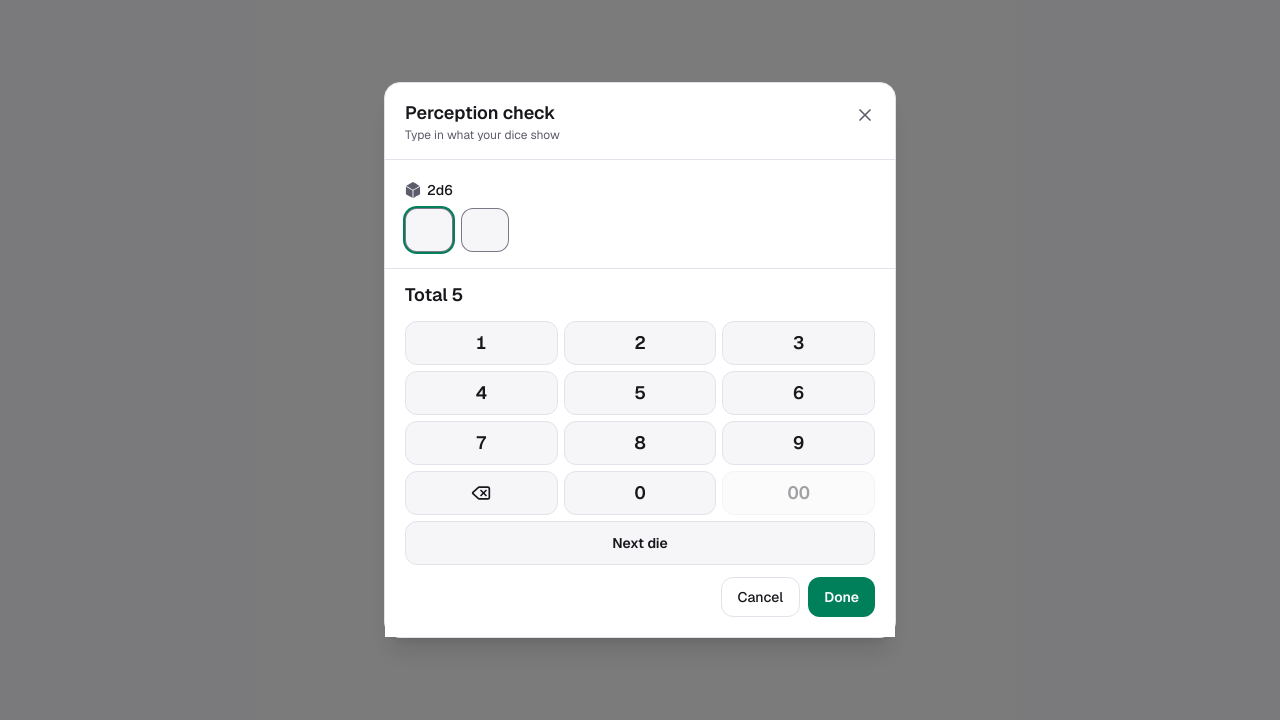
components/dice-entry/dice-entry-dialog › typing › starts a box holding a whole face again with the next digit
Click the button "4" at (481, 393), box [405, 371, 558, 415]
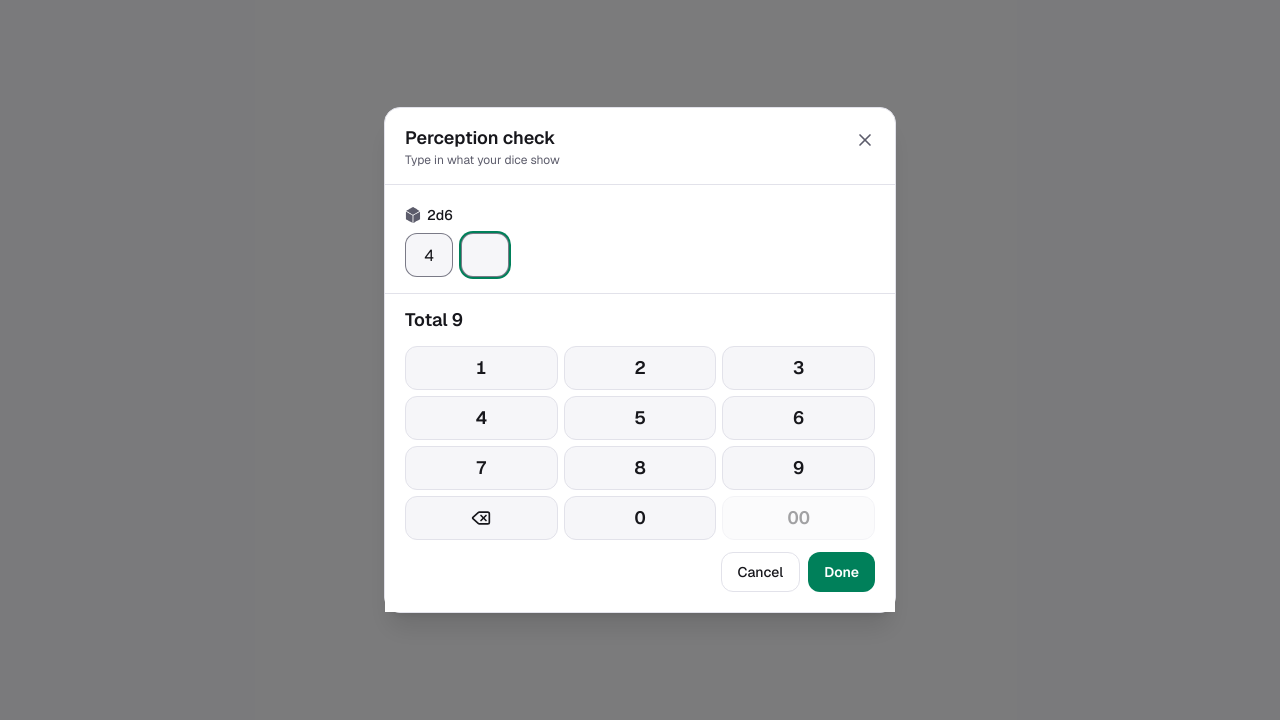
Click the field named "d6 1 of 2" at (429, 255), box [405, 233, 453, 277]
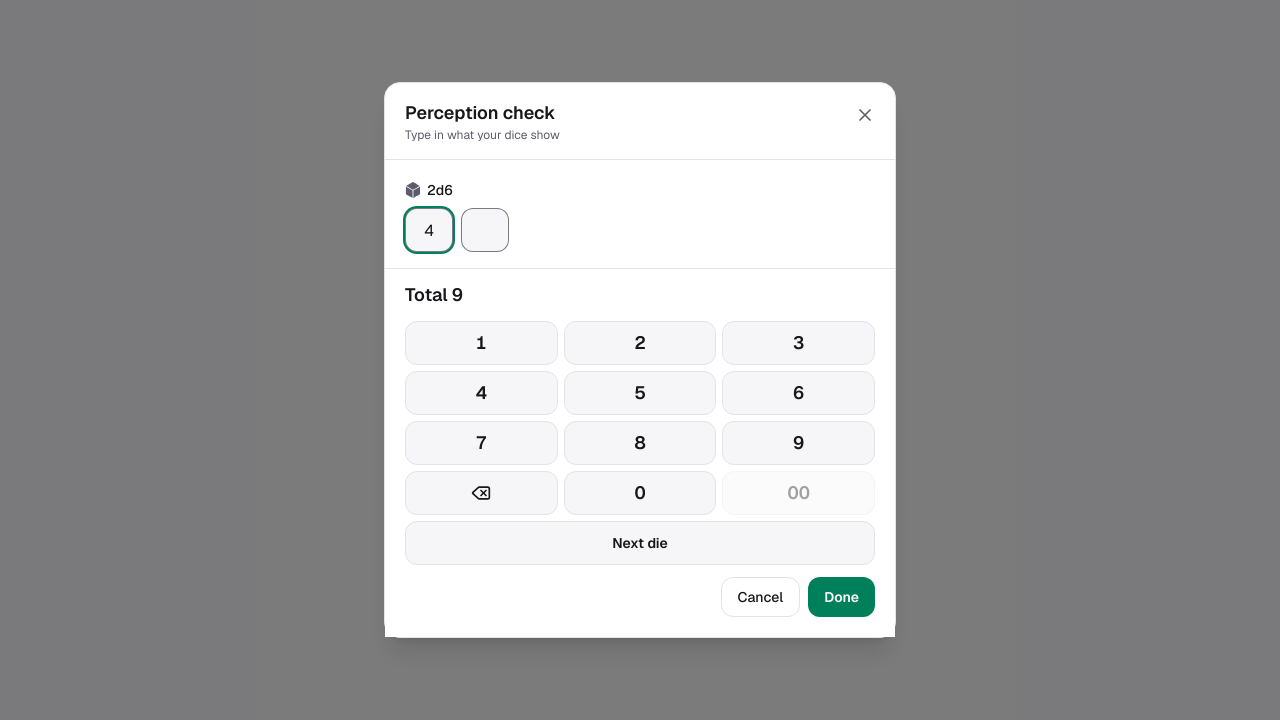
Click the button "5" at (640, 393), box [564, 371, 716, 415]
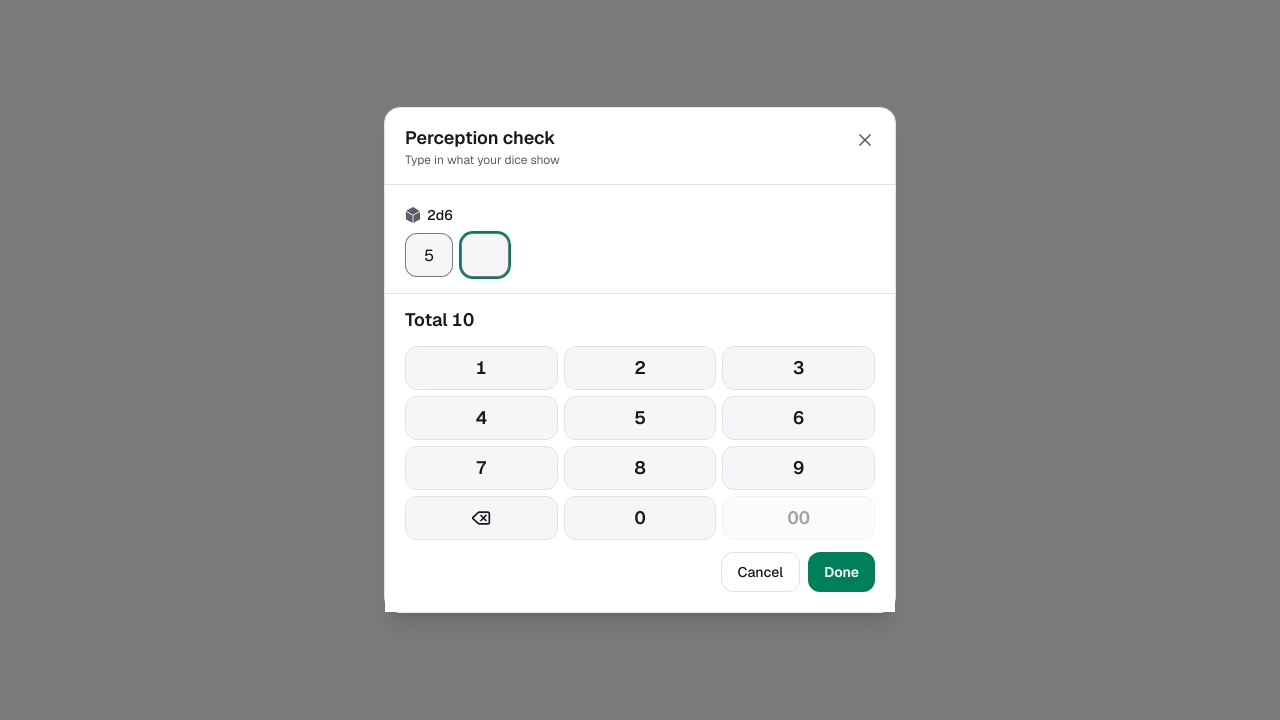
Expected: the field named "d6 1 of 2" holds "5"
Click the field named "d6 1 of 2" at (429, 255), box [405, 233, 453, 277]
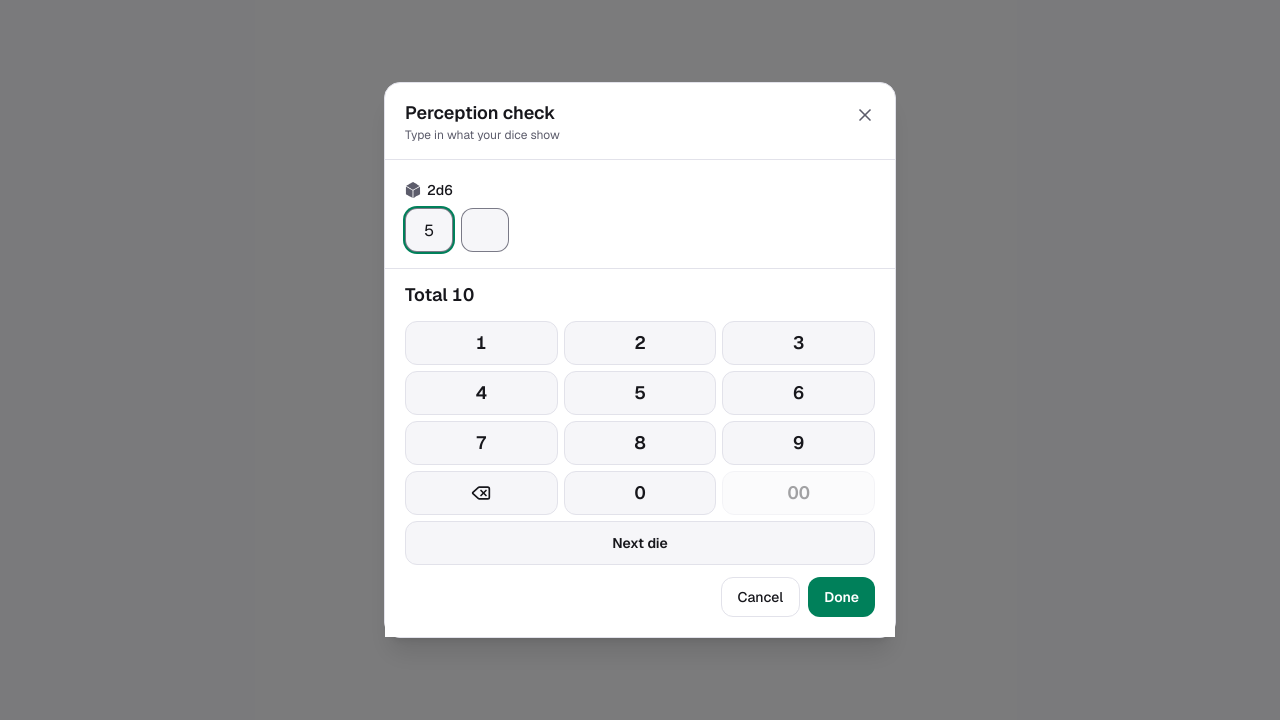
Type keys "3"
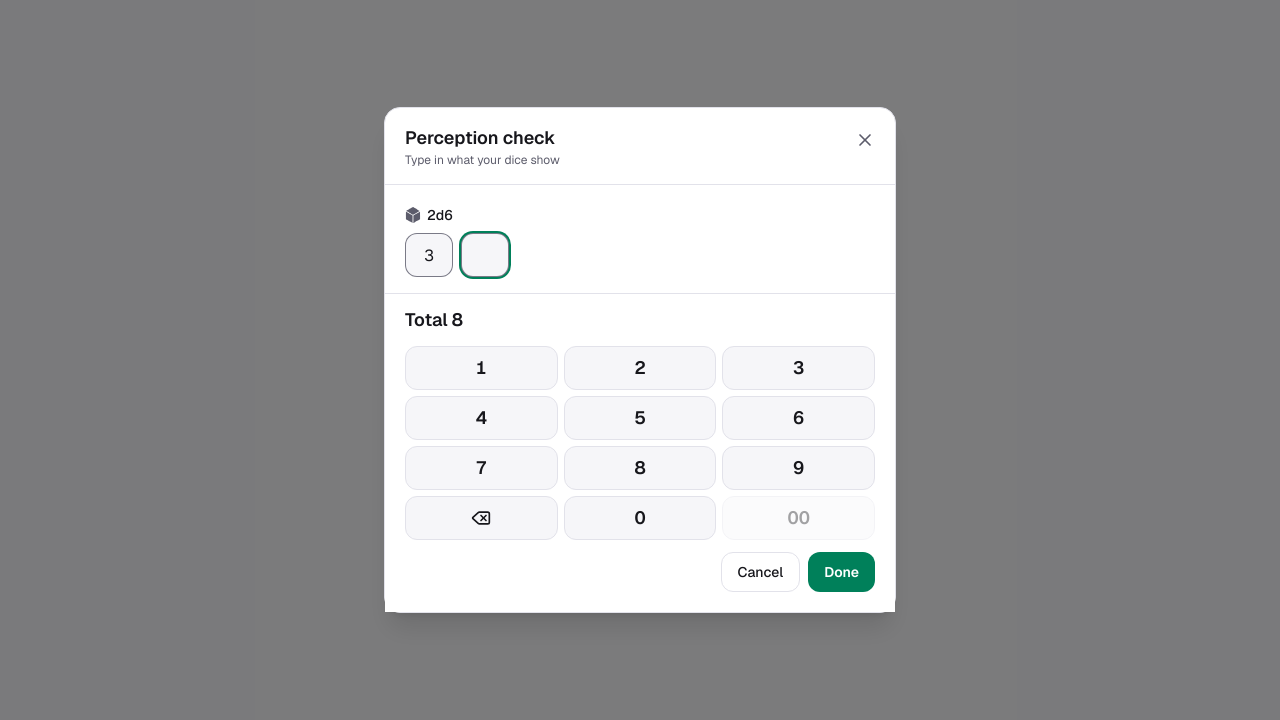
Expected: the field named "d6 1 of 2" holds "3", [405, 233, 453, 277]
